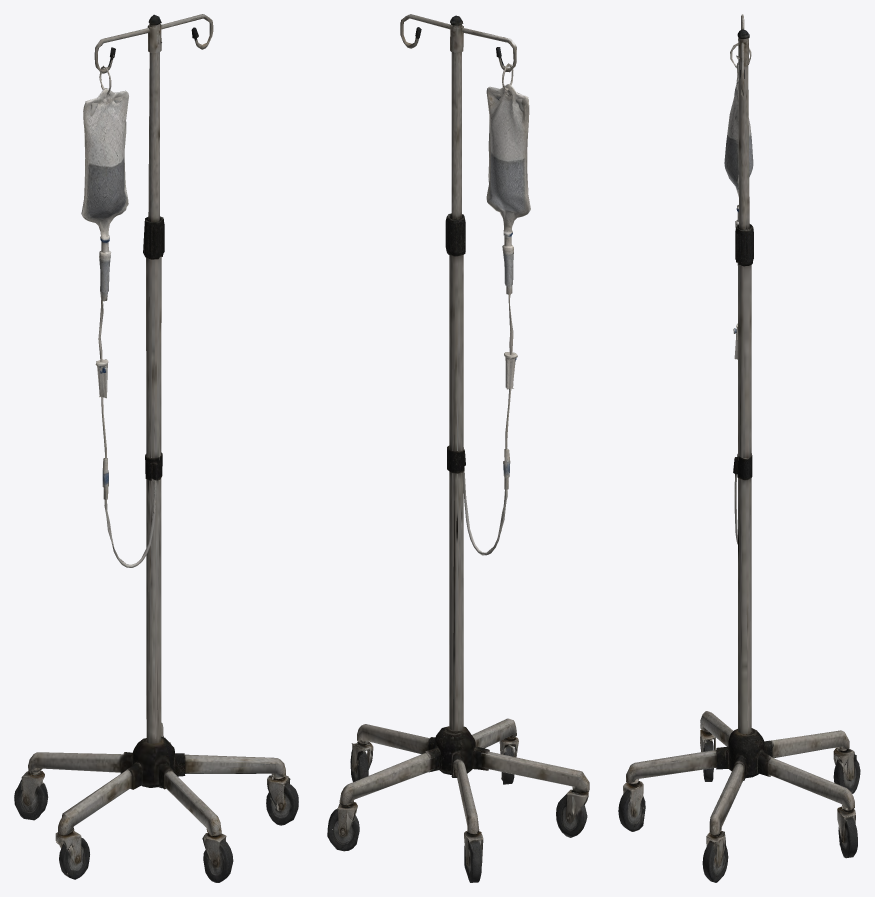
Rendered from p7-iv-pole-t25.glb.
The picture shows the model from 3 angles, left to right: view 1: azimuth 30°, elevation 25°; view 2: azimuth 150°, elevation 25°; view 3: azimuth 270°, elevation 25°; orthographic projection. The views are drawn at different scales.
Visible parts, largest first — view 1: p7-iv-pole-t25; view 2: p7-iv-pole-t25; view 3: p7-iv-pole-t25.
Part boxes in pixels (x1,y1,x2,y2): p7-iv-pole-t25: [14, 14, 298, 882]; p7-iv-pole-t25: [327, 14, 589, 882]; p7-iv-pole-t25: [618, 14, 860, 882].
Bounding box in the file's own units: 0.613 × 2 × 0.55.
1 material, 1 textured.
